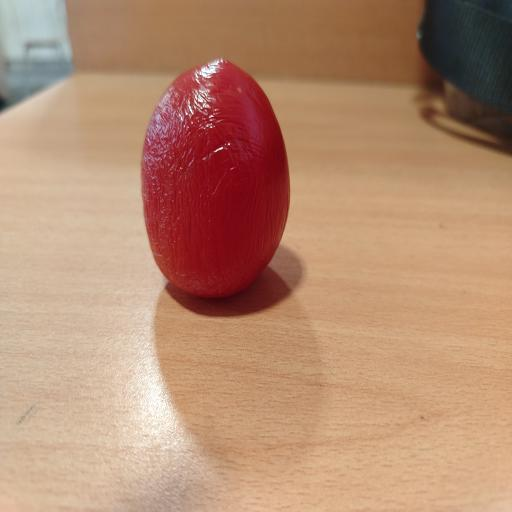spoiled: (141, 60, 290, 297)
